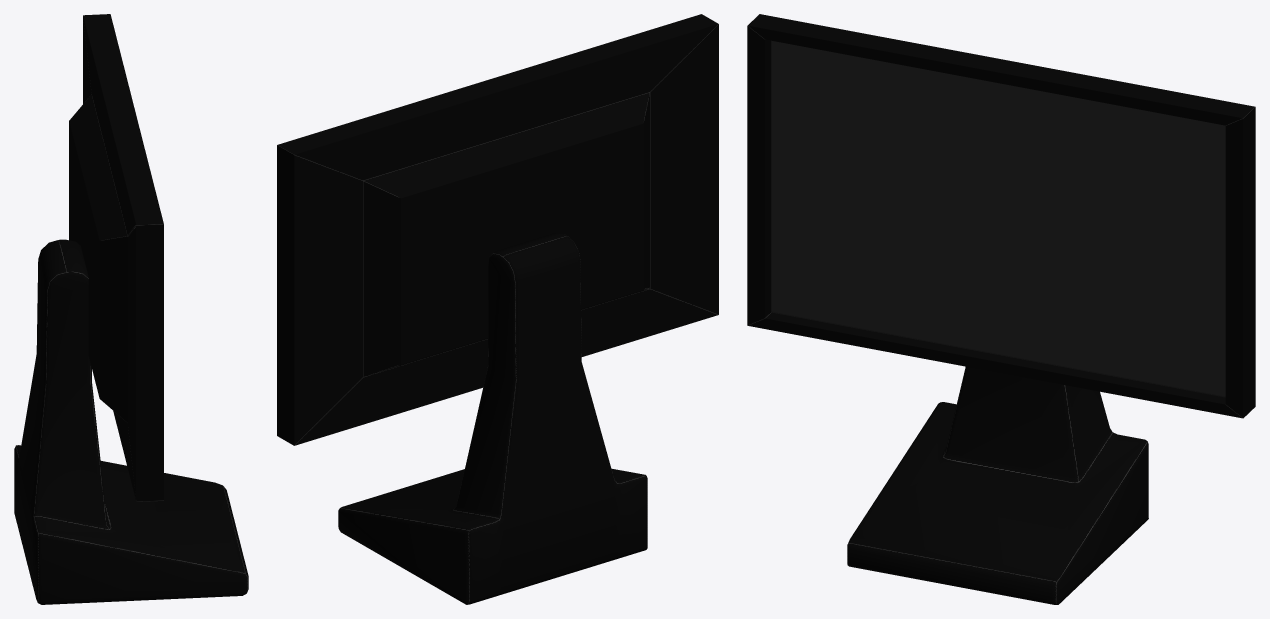
Rendered from Computer.fbx.
The picture shows the model from 3 angles, left to right: view 1: azimuth 30°, elevation 25°; view 2: azimuth 150°, elevation 25°; view 3: azimuth 270°, elevation 25°; orthographic projection. The views are drawn at different scales.
Parts seen in each view (by area): view 1: Leg, Monitor.002; view 2: Monitor.002, Leg; view 3: Monitor.002, Leg.
Part boxes in pixels (bbox=[...]): Leg: bbox=[14, 239, 248, 604]; Monitor.002: bbox=[69, 14, 163, 501]; Monitor.002: bbox=[277, 14, 718, 445]; Leg: bbox=[338, 233, 647, 604]; Monitor.002: bbox=[747, 14, 1255, 418]; Leg: bbox=[847, 366, 1148, 604].
Bounding box in the file's own units: 260 × 451 × 439.
